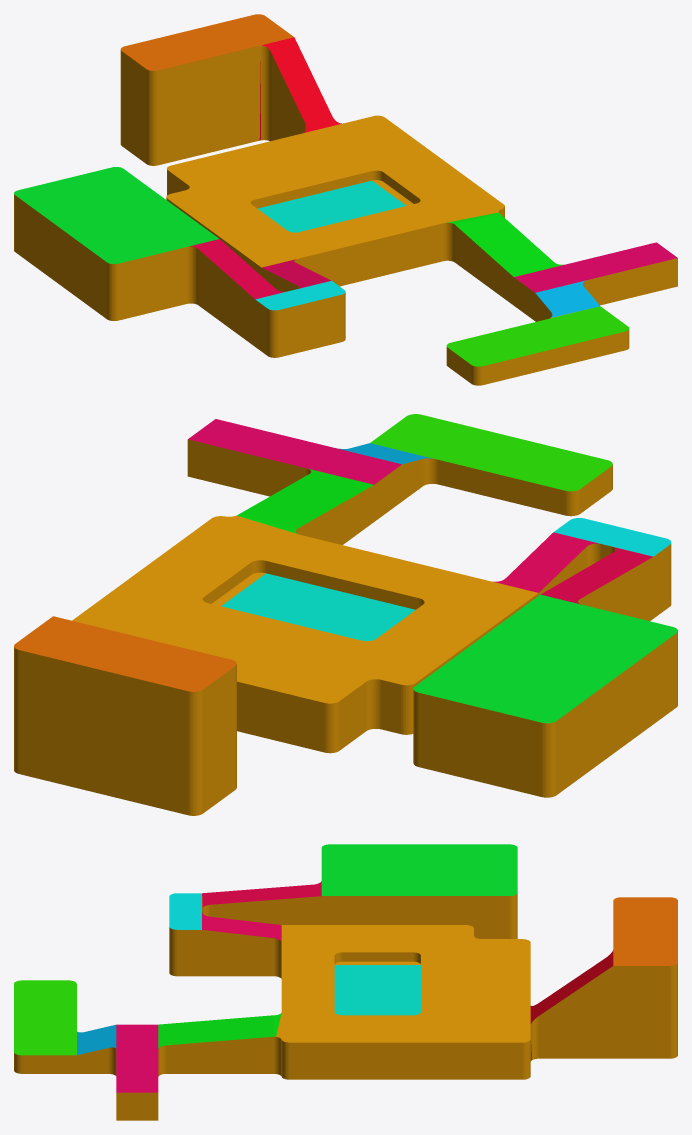
The model's file is CuevaB2.fbx.
The picture shows the model from 3 angles, top to bottom: view 1: azimuth 30°, elevation 25°; view 2: azimuth 150°, elevation 25°; view 3: azimuth 270°, elevation 25°; orthographic projection. The views are drawn at different scales.
Visible parts, largest first — view 1: Cube; view 2: Cube; view 3: Cube.
Boxes of the visible parts, left/top/right/bottom form: Cube: left=14, top=14, right=677, bottom=385; Cube: left=14, top=414, right=677, bottom=815; Cube: left=14, top=844, right=677, bottom=1120.
Bounding box in the file's own units: 12.73 × 16.2 × 2.5.
